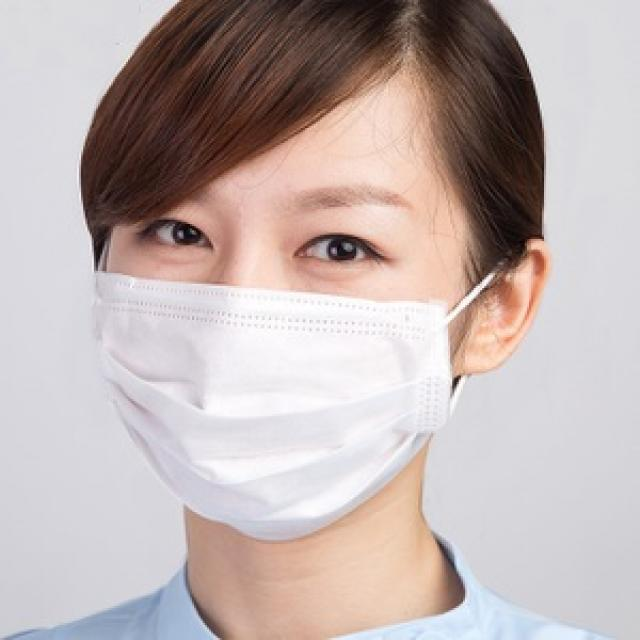mask: (91, 61, 458, 524)
